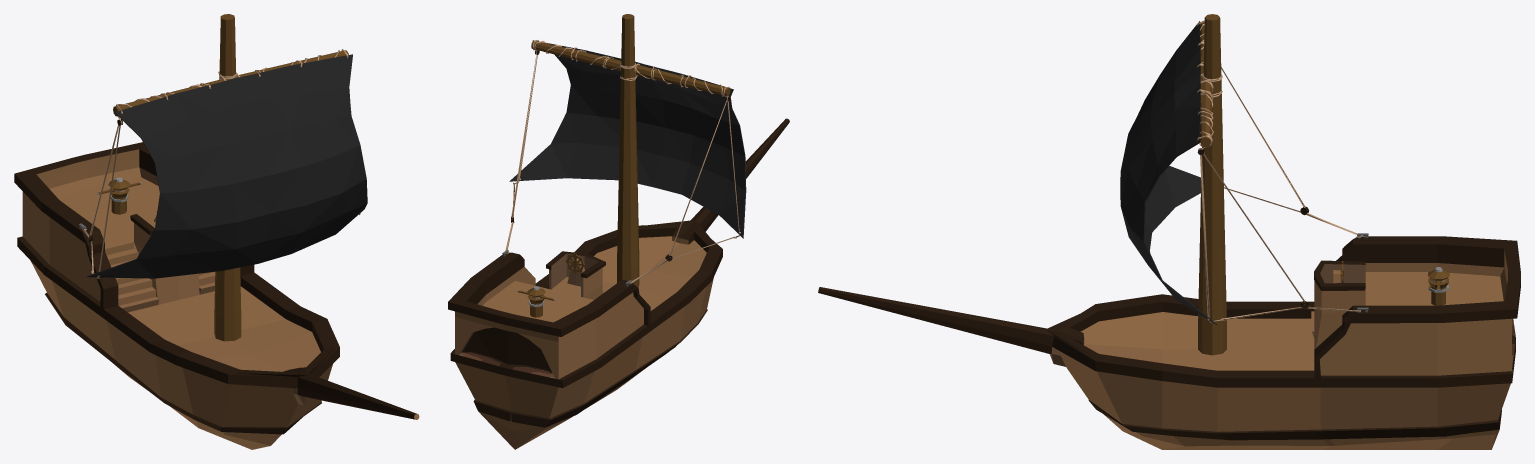
Rendered from boat.fbx.
3 views of the same model, side by side, from view 1: azimuth 30°, elevation 25°; view 2: azimuth 150°, elevation 25°; view 3: azimuth 270°, elevation 25° (orthographic). The views are drawn at different scales.
Parts seen in each view (by area): view 1: Lod, Plachta, Stazen, BezierCurve, Kotva; view 2: Lod, Plachta, Stazen, BezierCurve, Kotva; view 3: Lod, Plachta, Stazen, BezierCurve.
Part boxes in pixels (x1=…): Lod: x1=14, y1=142, x2=419, y2=449; Plachta: x1=87, y1=54, x2=367, y2=278; Stazen: x1=113, y1=14, x2=348, y2=341; BezierCurve: x1=82, y1=49, x2=360, y2=278; Kotva: x1=96, y1=177, x2=141, y2=214; Lod: x1=448, y1=118, x2=789, y2=449; Plachta: x1=509, y1=40, x2=746, y2=238; Stazen: x1=531, y1=14, x2=730, y2=287; BezierCurve: x1=505, y1=40, x2=739, y2=283; Kotva: x1=517, y1=286, x2=555, y2=317; Lod: x1=818, y1=233, x2=1520, y2=449; Plachta: x1=1120, y1=21, x2=1217, y2=324; Stazen: x1=1198, y1=14, x2=1226, y2=355; BezierCurve: x1=1197, y1=21, x2=1360, y2=322.
Size of the model in its own units: 9.52 by 13.6 by 20.02.
